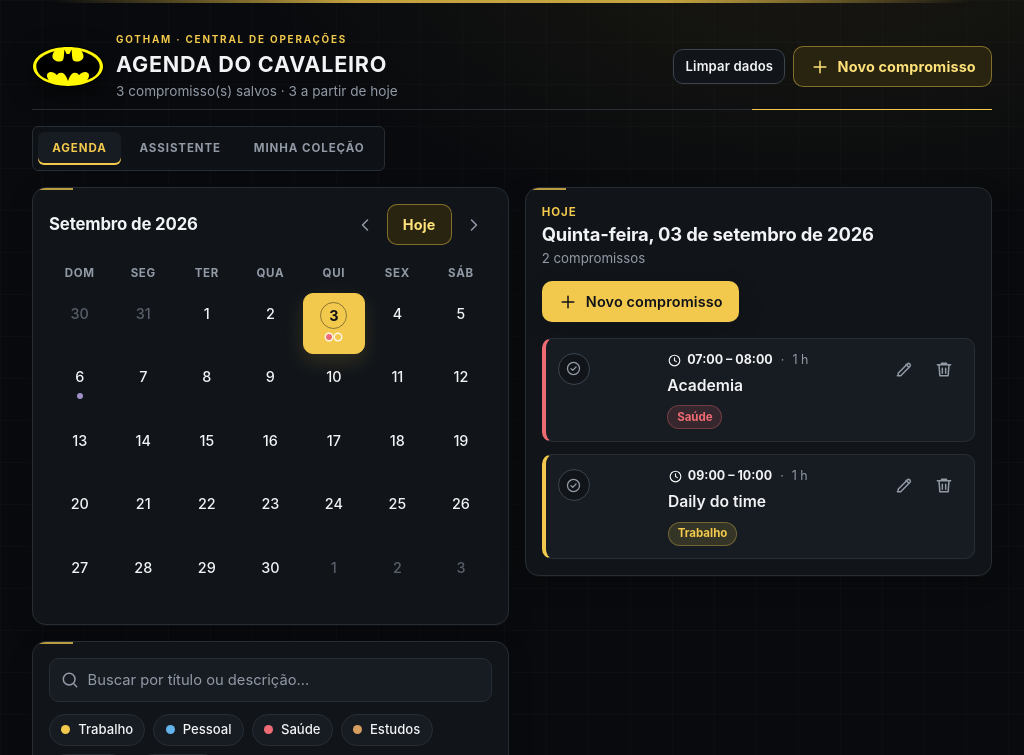
it: busca e filtros › ignora acentos e diferenças de caixa
The image size is (1024, 755).
Type "ACADEMIA" into the search field named "buscar compromissos" at (270, 680), box [49,658,492,702]
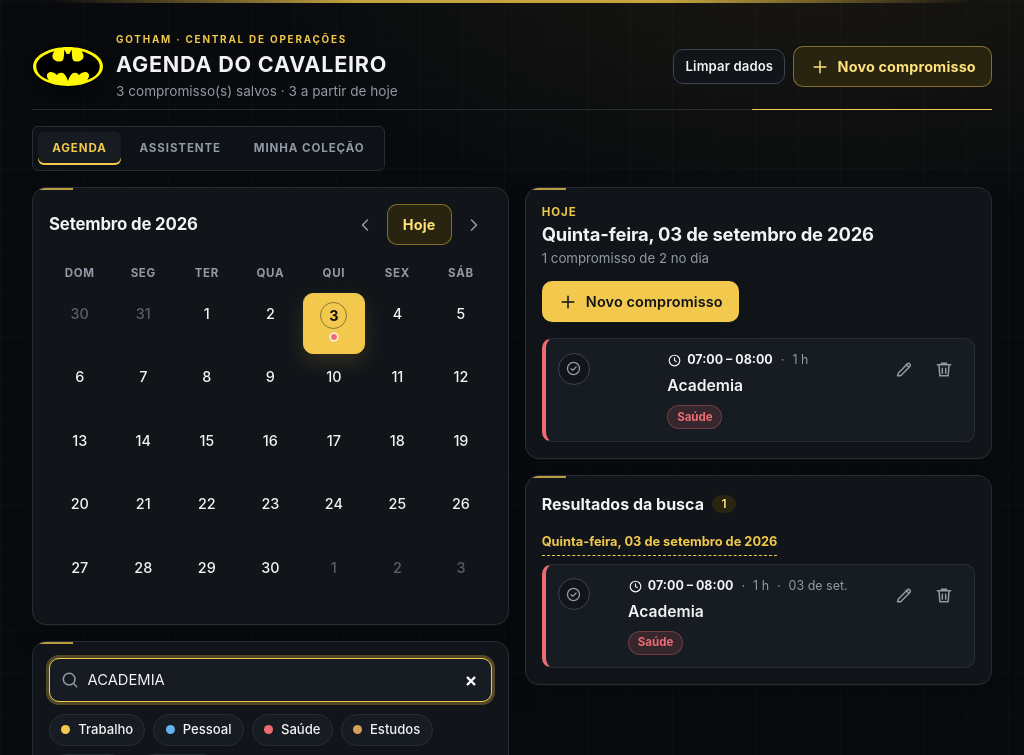
Check: the heading "Academia" below "03 de set." is shown, box [628,602,704,620]
